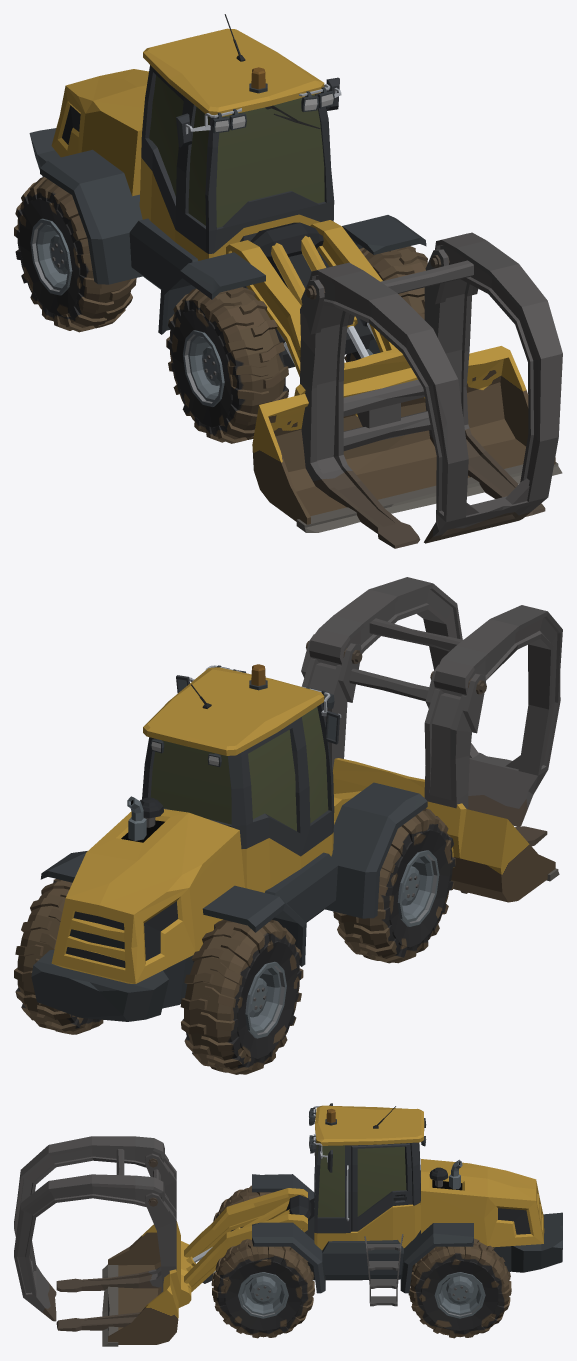
Rendered from SM_Veh_Loader_01.fbx.
3 renders of one model, top to bottom at view 1: azimuth 30°, elevation 25°; view 2: azimuth 150°, elevation 25°; view 3: azimuth 270°, elevation 25°, orthographic. The views are drawn at different scales.
Parts seen in each view (by area): view 1: SM_Veh_Loader_01, SM_Veh_Loader_01_Claw_02, SM_Veh_Loader_01_Bucket, SM_Veh_Loader_01_Wheel_fr, SM_Veh_Loader_01_Glass, SM_Veh_Loader_01_Wheel_rr, SM_Veh_Loader_01_Arm, SM_Veh_Loader_01_Wheel_fl; view 2: SM_Veh_Loader_01, SM_Veh_Loader_01_Claw_02, SM_Veh_Loader_01_Wheel_rr, SM_Veh_Loader_01_Glass, SM_Veh_Loader_01_Wheel_fr, SM_Veh_Loader_01_Bucket, SM_Veh_Loader_01_Wheel_rl; view 3: SM_Veh_Loader_01, SM_Veh_Loader_01_Claw_02, SM_Veh_Loader_01_Wheel_fl, SM_Veh_Loader_01_Wheel_rl, SM_Veh_Loader_01_Bucket, SM_Veh_Loader_01_Arm, SM_Veh_Loader_01_Glass, SM_Veh_Loader_01_Wheel_fr.
Part boxes in pixels (x1,y1,x2,y2): SM_Veh_Loader_01: (29, 14, 545, 548); SM_Veh_Loader_01_Claw_02: (309, 232, 562, 543); SM_Veh_Loader_01_Bucket: (252, 346, 562, 532); SM_Veh_Loader_01_Wheel_fr: (166, 287, 288, 443); SM_Veh_Loader_01_Glass: (149, 75, 324, 227); SM_Veh_Loader_01_Wheel_rr: (14, 177, 136, 332); SM_Veh_Loader_01_Arm: (226, 220, 396, 376); SM_Veh_Loader_01_Wheel_fl: (344, 246, 427, 362); SM_Veh_Loader_01: (31, 634, 547, 1021); SM_Veh_Loader_01_Claw_02: (309, 577, 562, 826); SM_Veh_Loader_01_Wheel_rr: (180, 919, 303, 1074); SM_Veh_Loader_01_Glass: (150, 707, 328, 831); SM_Veh_Loader_01_Wheel_fr: (333, 808, 455, 963); SM_Veh_Loader_01_Bucket: (333, 758, 559, 902); SM_Veh_Loader_01_Wheel_rl: (14, 879, 103, 1034); SM_Veh_Loader_01: (56, 1103, 562, 1331); SM_Veh_Loader_01_Claw_02: (14, 1136, 164, 1321); SM_Veh_Loader_01_Wheel_fl: (211, 1239, 314, 1338); SM_Veh_Loader_01_Wheel_rl: (408, 1238, 511, 1338); SM_Veh_Loader_01_Bucket: (102, 1221, 191, 1346); SM_Veh_Loader_01_Arm: (184, 1188, 307, 1292); SM_Veh_Loader_01_Glass: (317, 1145, 406, 1217); SM_Veh_Loader_01_Wheel_fr: (213, 1185, 272, 1231).
Size of the model in its own units: 324 by 392 by 940.
